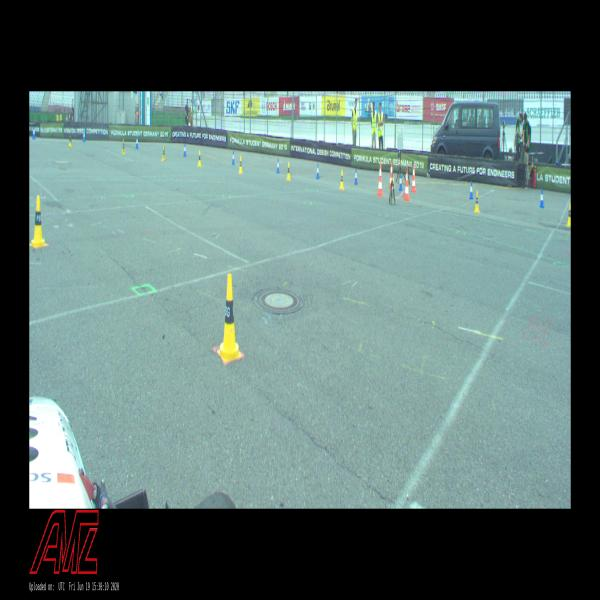blue_cone: (539, 189, 544, 208), (470, 181, 474, 200), (398, 172, 402, 191), (354, 168, 358, 184), (276, 158, 280, 173), (183, 144, 187, 157), (317, 163, 320, 179), (232, 150, 235, 165), (32, 127, 36, 138), (82, 131, 86, 142), (136, 137, 138, 149)
large_orange_cone: (404, 167, 410, 201), (377, 163, 383, 196), (412, 164, 416, 192), (389, 162, 392, 188)
yellow_cone: (218, 274, 242, 364), (30, 195, 46, 248), (474, 191, 480, 212), (339, 169, 344, 190), (197, 150, 202, 167), (566, 204, 570, 225), (286, 162, 290, 180), (238, 156, 242, 173), (122, 139, 126, 154), (162, 145, 166, 160), (69, 132, 72, 147)
